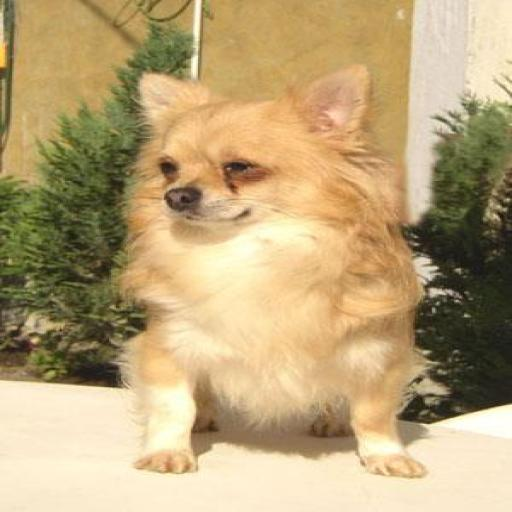dog_face: (123, 71, 377, 228)
